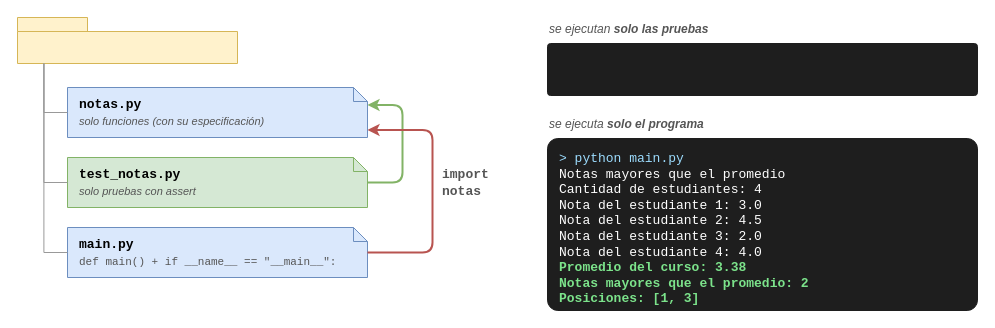
Some shapes in this 995 by 328 pixel diagram are drawn without their labels. Each missing label, with the centre of its shape:
"> python test_notas.py Pruebas de notas: todas pasaron" belongs at [762,69].
"notas_con_arreglos/" belongs at [127,40].
